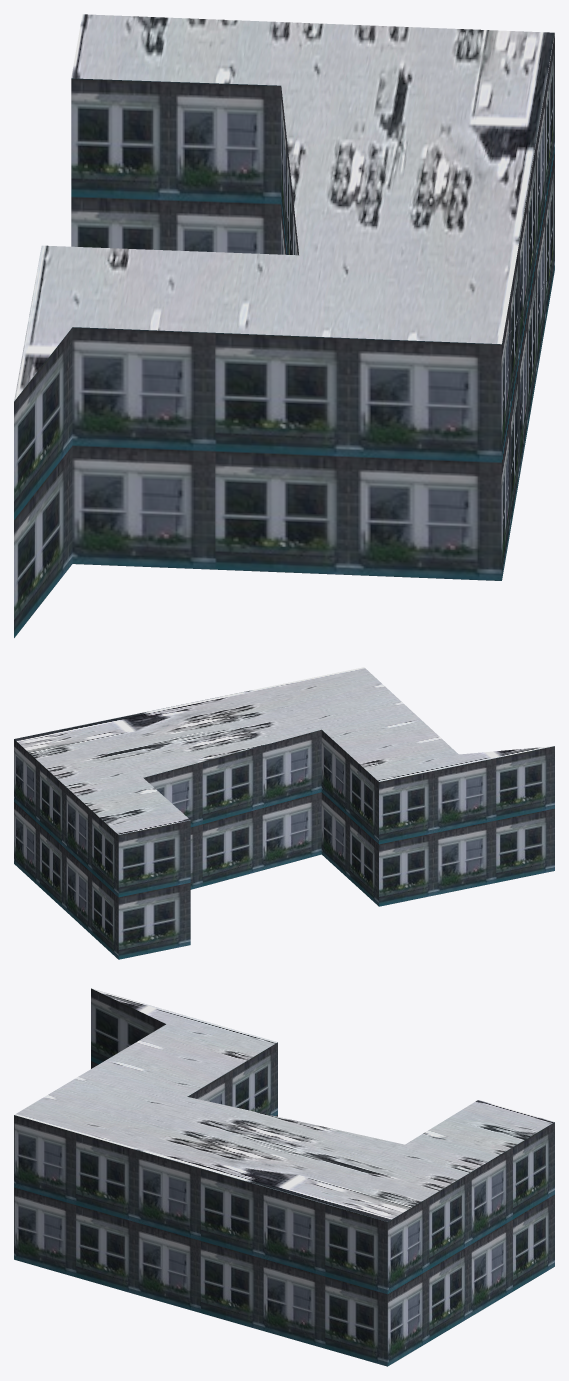
The model's file is ResTex__2089.fbx.
The picture shows the model from 3 angles, top to bottom: view 1: azimuth 30°, elevation 25°; view 2: azimuth 150°, elevation 25°; view 3: azimuth 270°, elevation 25°; orthographic projection. The views are drawn at different scales.
Visible parts, largest first — view 1: CityEngineMaterial_11_m, CityEngineMaterial_m; view 2: CityEngineMaterial_11_m, CityEngineMaterial_m; view 3: CityEngineMaterial_11_m, CityEngineMaterial_m.
Boxes of the visible parts, box(x1,y1,x2,y2) form: CityEngineMaterial_11_m: box(14, 34, 554, 637); CityEngineMaterial_m: box(14, 14, 554, 401); CityEngineMaterial_11_m: box(14, 729, 554, 959); CityEngineMaterial_m: box(14, 667, 552, 834); CityEngineMaterial_11_m: box(14, 988, 554, 1366); CityEngineMaterial_m: box(14, 988, 554, 1221).
Bounding box in the file's own units: 20.78 × 6 × 20.33.
2 materials, 2 textured.
